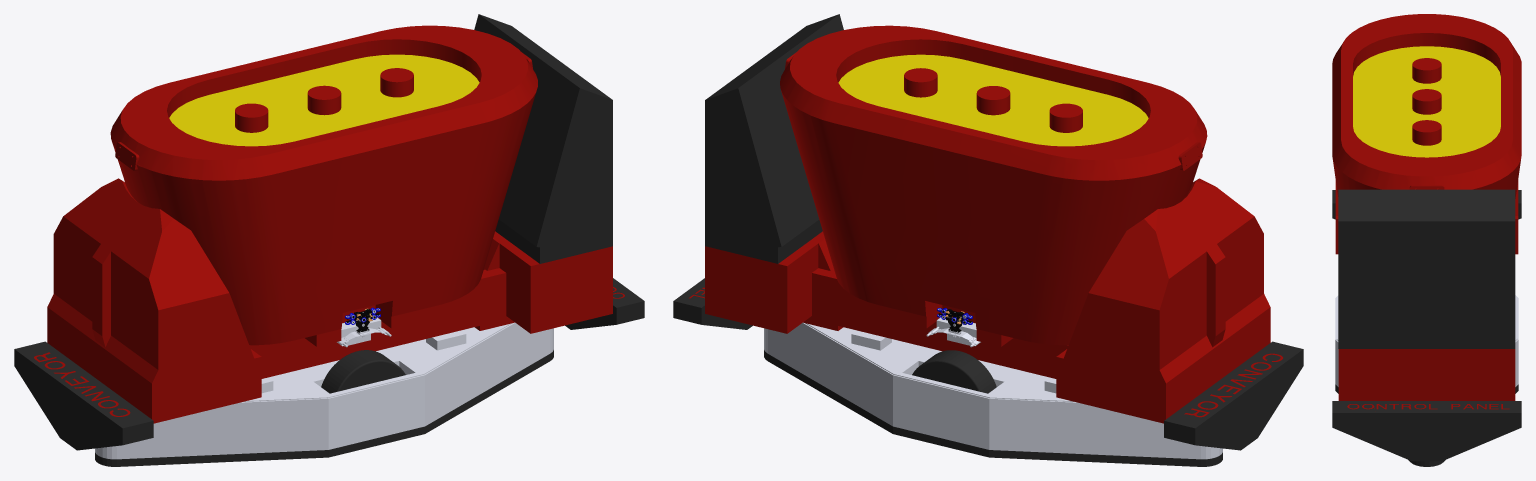
File: trioliet.glb
3 views of the same model, side by side, from view 1: azimuth 30°, elevation 25°; view 2: azimuth 150°, elevation 25°; view 3: azimuth 270°, elevation 25° (orthographic). The views are drawn at different scales.
Parts seen in each view (by area): view 1: Shape_IndexedFaceSet_211, Shape_IndexedFaceSet_212, Shape_IndexedFaceSet_004, Shape_IndexedFaceSet_213, Shape_IndexedFaceSet_007, Shape_IndexedFaceSet_006, Shape_IndexedFaceSet_108; view 2: Shape_IndexedFaceSet_211, Shape_IndexedFaceSet_212, Shape_IndexedFaceSet_004, Shape_IndexedFaceSet_213, Shape_IndexedFaceSet_007, Shape_IndexedFaceSet_005, Shape_IndexedFaceSet_009; view 3: Shape_IndexedFaceSet_211, Shape_IndexedFaceSet_213, Shape_IndexedFaceSet_004, Shape_IndexedFaceSet_212, Shape_IndexedFaceSet_007.
Part boxes in pixels (x1,y1,x2,y2): Shape_IndexedFaceSet_211: (110, 25, 644, 378); Shape_IndexedFaceSet_212: (14, 178, 261, 450); Shape_IndexedFaceSet_004: (95, 322, 553, 466); Shape_IndexedFaceSet_213: (474, 14, 612, 263); Shape_IndexedFaceSet_007: (243, 323, 512, 401); Shape_IndexedFaceSet_006: (321, 350, 405, 393); Shape_IndexedFaceSet_108: (337, 307, 391, 347); Shape_IndexedFaceSet_211: (673, 25, 1207, 378); Shape_IndexedFaceSet_212: (1056, 178, 1303, 450); Shape_IndexedFaceSet_004: (764, 322, 1222, 466); Shape_IndexedFaceSet_213: (705, 14, 843, 263); Shape_IndexedFaceSet_007: (805, 323, 1074, 401); Shape_IndexedFaceSet_005: (912, 350, 996, 393); Shape_IndexedFaceSet_009: (926, 308, 980, 347); Shape_IndexedFaceSet_211: (1332, 14, 1521, 461); Shape_IndexedFaceSet_213: (1338, 189, 1515, 348); Shape_IndexedFaceSet_004: (1335, 295, 1518, 466); Shape_IndexedFaceSet_212: (1332, 180, 1521, 254); Shape_IndexedFaceSet_007: (1336, 296, 1517, 340).
Size of the model in its own units: 3.59 by 2.07 by 1.29.
